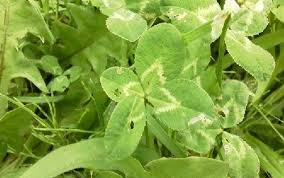4-clover: (101, 24, 214, 158)
